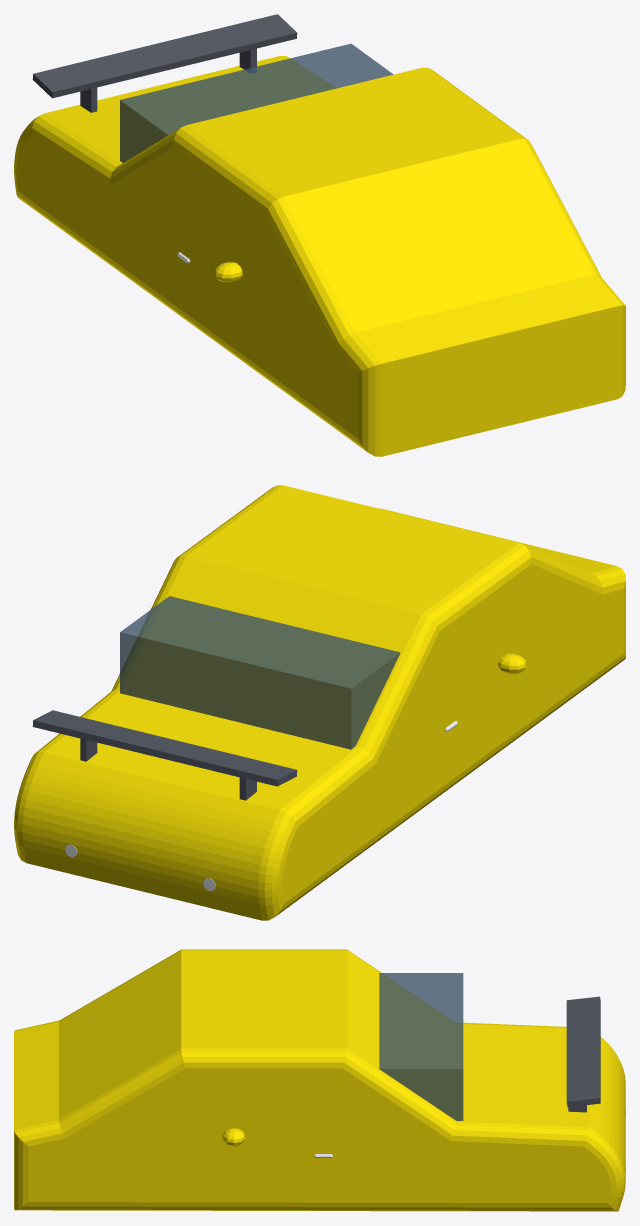
File: veh_raio.glb
3 renders of one model, top to bottom at view 1: azimuth 30°, elevation 25°; view 2: azimuth 150°, elevation 25°; view 3: azimuth 270°, elevation 25°, orthographic. The views are drawn at different scales.
Visible parts, largest first — view 1: veh_raio; view 2: veh_raio; view 3: veh_raio.
Boxes of the visible parts, x1=… form: veh_raio: x1=14, y1=14, x2=625, y2=456; veh_raio: x1=14, y1=485, x2=625, y2=920; veh_raio: x1=14, y1=949, x2=625, y2=1211.
Bounding box in the file's own units: 2.28 × 1.33 × 4.57.
